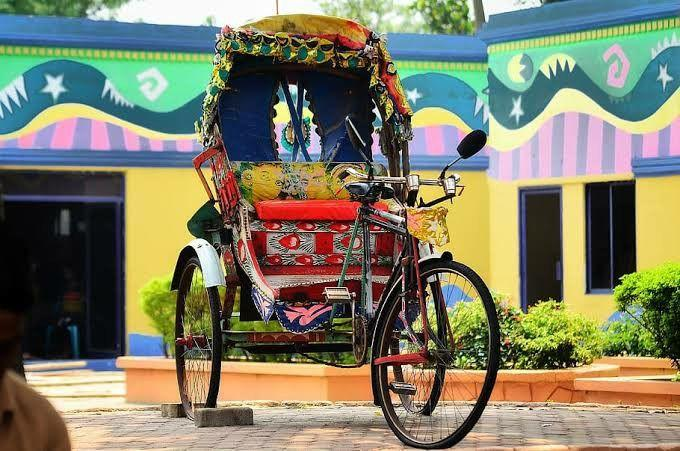Rickshaw: (171, 15, 499, 448)
